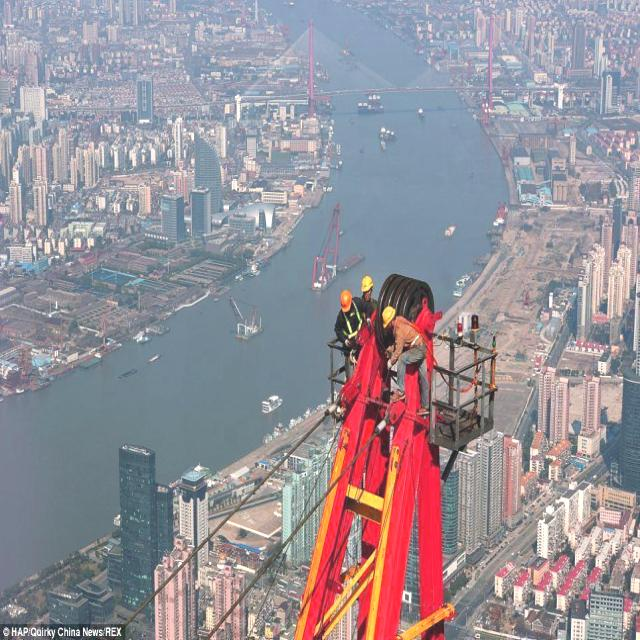head_helmet: (381, 306, 396, 329), (340, 290, 352, 310), (361, 276, 373, 292)
person: (377, 303, 430, 417), (334, 293, 360, 362), (354, 271, 376, 313)
shoes: (388, 382, 406, 403), (415, 402, 431, 419)
vest: (342, 317, 364, 340)
